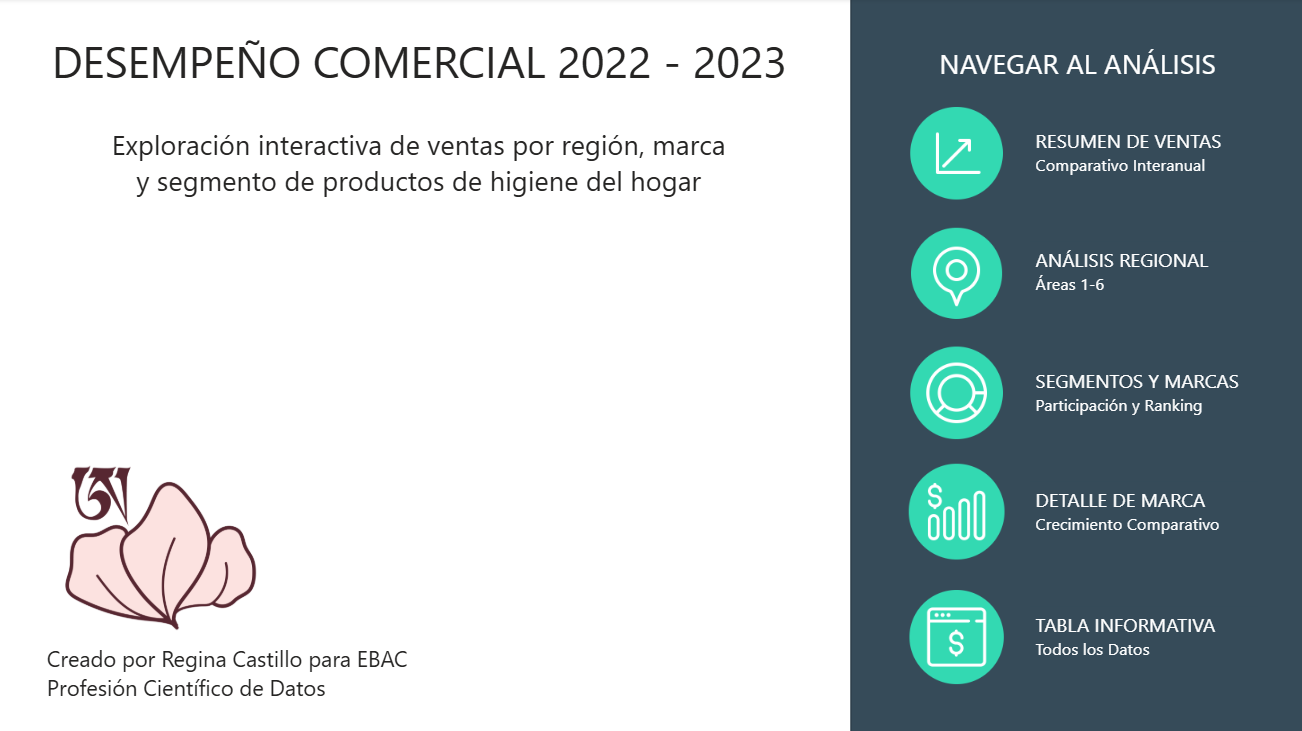

This screenshot's page, from the dashboard's own definition file:
{"tool":"powerbi","page":{"name":"Menú","canvas":[1280,720],"ordinal":0},"visuals":[{"type":"image","box":[42.8,448.8,229.9,176.1],"z":0},{"type":"textbox","box":[42.8,26.9,738.6,74.6],"z":1000},{"type":"textbox","box":[100.3,119.8,622.4,86.8],"z":2000},{"type":"textbox","box":[42.8,626.1,373,69.7],"z":3000},{"type":"shape","box":[834,0,446.3,720.2],"z":4000},{"type":"textbox","box":[915.9,40.4,282.5,48.9],"z":5000},{"type":"image","title":"Resumen Ejecutivo","box":[887.8,97.4,100.2,108.4],"z":6000},{"type":"image","title":"Región y Formato","box":[887.8,219.6,100.2,98.8],"z":7000},{"type":"image","title":"Segmento y Marca","box":[887.8,336.2,100.2,100.2],"z":8000},{"type":"image","title":"Detalle de Marca","box":[887.8,452.8,100.2,100.2],"z":9000},{"type":"image","title":"Tabla Completa","box":[887.8,576.3,100.2,98.8],"z":10000},{"type":"textbox","box":[1010,122.1,200.3,59],"z":11000},{"type":"textbox","box":[1010,238.8,222.3,59],"z":12000},{"type":"textbox","box":[1010,356.8,222.3,59],"z":13000},{"type":"textbox","box":[1010,473.4,222.3,59],"z":14000},{"type":"textbox","box":[1010,595.5,222.3,59],"z":15000}]}

Visuals, with their boxes in screenshot pixels (x1, y1, x2, y2), scaled from the page's 1280x720 canvas onto the 1302x731 screenshot:
image: bbox=(44, 456, 277, 634)
textbox: bbox=(44, 27, 795, 103)
textbox: bbox=(102, 122, 735, 210)
textbox: bbox=(44, 636, 423, 706)
shape: bbox=(848, 0, 1301, 730)
textbox: bbox=(932, 41, 1219, 91)
"Resumen Ejecutivo" image: bbox=(903, 99, 1005, 209)
"Región y Formato" image: bbox=(903, 223, 1005, 323)
"Segmento y Marca" image: bbox=(903, 341, 1005, 443)
"Detalle de Marca" image: bbox=(903, 460, 1005, 561)
"Tabla Completa" image: bbox=(903, 585, 1005, 685)
textbox: bbox=(1027, 124, 1231, 184)
textbox: bbox=(1027, 242, 1253, 302)
textbox: bbox=(1027, 362, 1253, 422)
textbox: bbox=(1027, 481, 1253, 541)
textbox: bbox=(1027, 605, 1253, 664)
